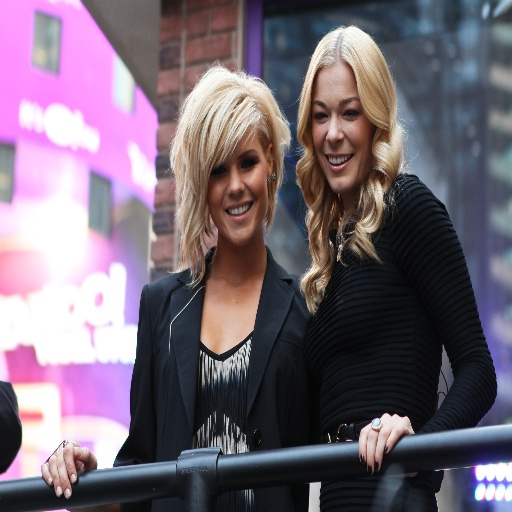hand: (357, 406, 418, 474), (38, 436, 98, 502)
